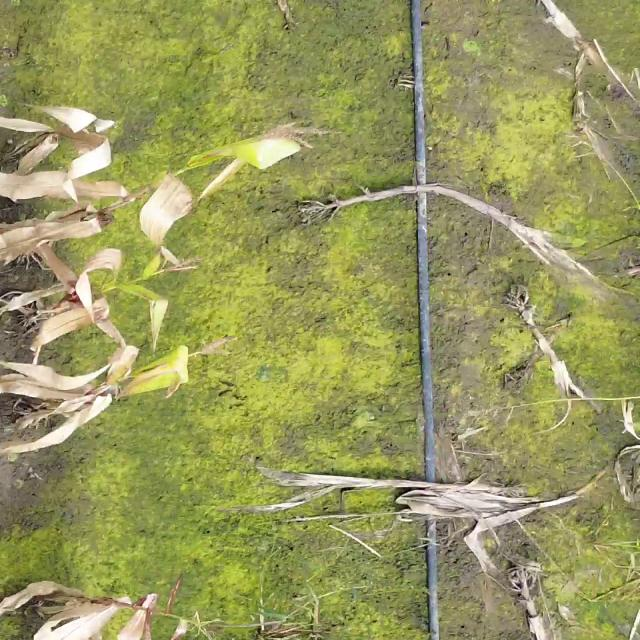northern-leaf-blight: (136, 357, 198, 397)
